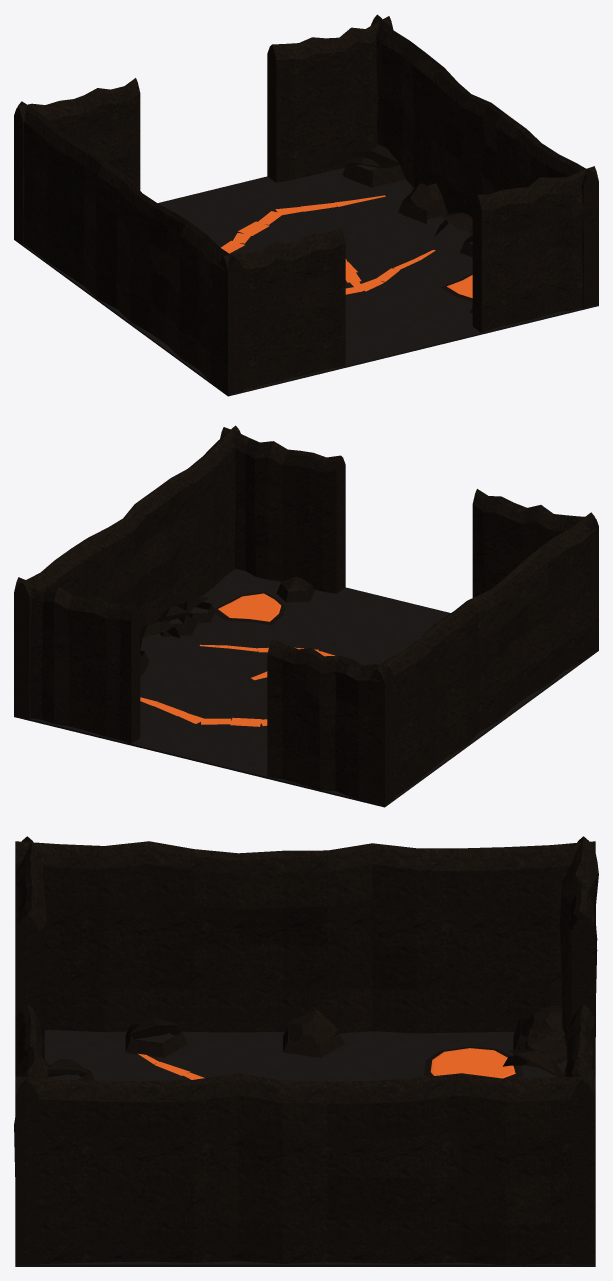
The model's file is dungeon_room_12_lava_real.glb.
The picture shows the model from 3 angles, top to bottom: view 1: azimuth 30°, elevation 25°; view 2: azimuth 150°, elevation 25°; view 3: azimuth 270°, elevation 25°; orthographic projection. The views are drawn at different scales.
Visible parts, largest first — view 1: dungeon_room_12_lava; view 2: dungeon_room_12_lava; view 3: dungeon_room_12_lava.
Boxes of the visible parts, left/top/right/bottom form: dungeon_room_12_lava: left=14, top=14, right=598, bottom=396; dungeon_room_12_lava: left=14, top=425, right=598, bottom=807; dungeon_room_12_lava: left=14, top=836, right=598, bottom=1266.
Size of the model in its own units: 12.13 by 4.3 by 12.09.
Materials: 3 (3 with a texture image).
